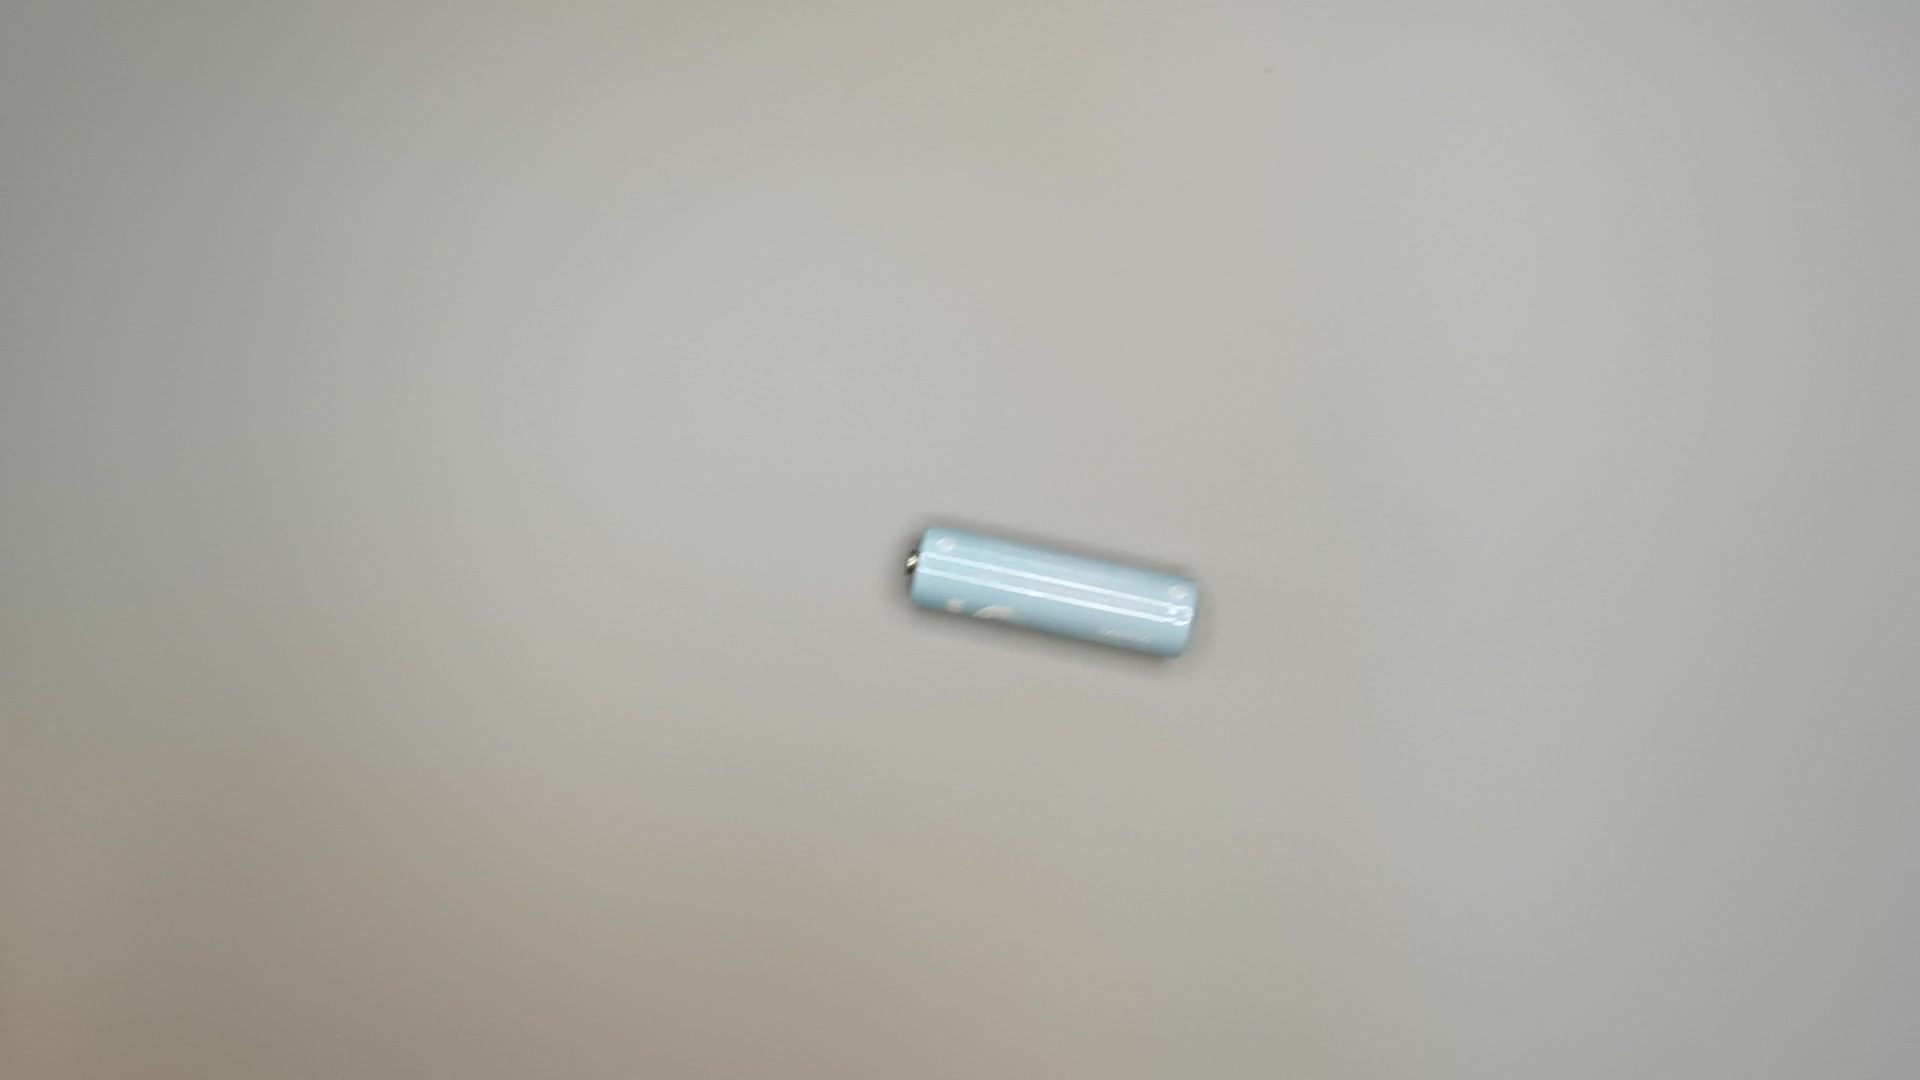battery: (895, 522, 1200, 669)
